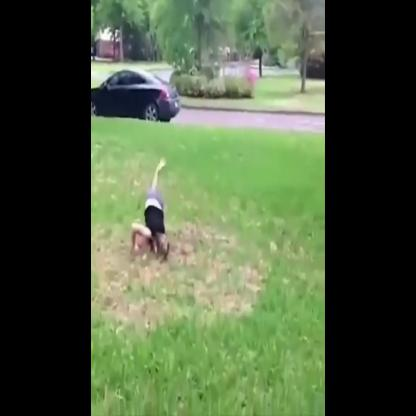Fall_Down: (126, 154, 171, 260)
